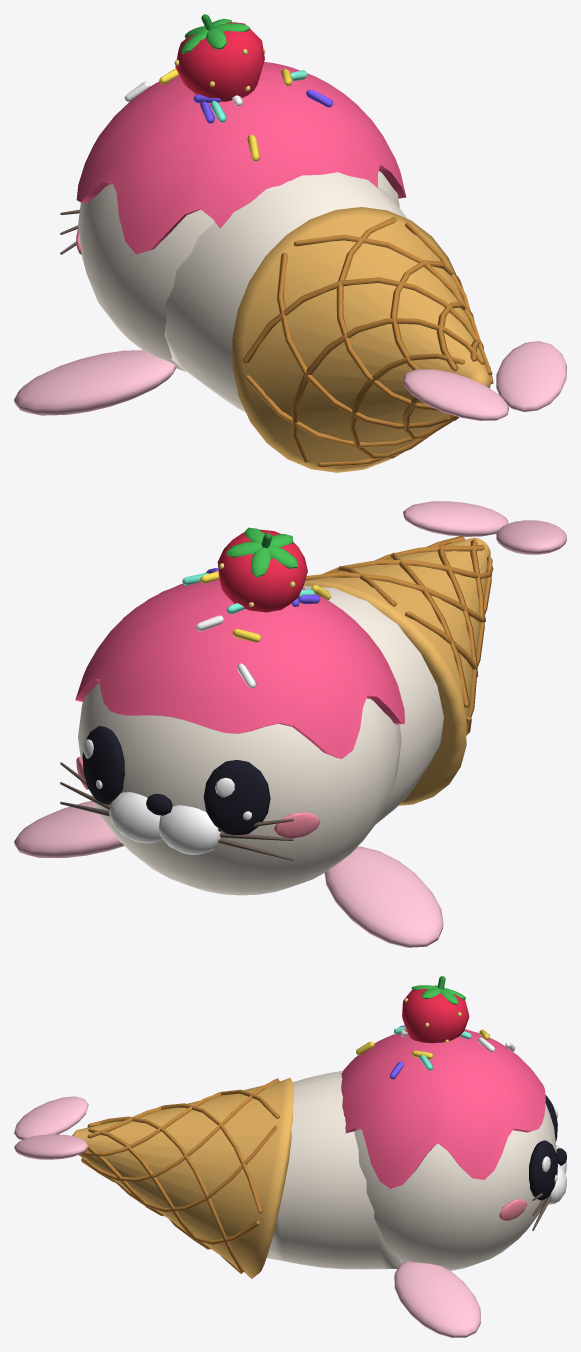
File: ice+strawberry.glb
The picture shows the model from 3 angles, top to bottom: view 1: azimuth 30°, elevation 25°; view 2: azimuth 150°, elevation 25°; view 3: azimuth 270°, elevation 25°; orthographic projection. The views are drawn at different scales.
Parts seen in each view (by area): view 1: ice+strawberry; view 2: ice+strawberry; view 3: ice+strawberry.
Part boxes in pixels (bbox=[...]): ice+strawberry: bbox=[14, 14, 566, 472]; ice+strawberry: bbox=[14, 501, 566, 947]; ice+strawberry: bbox=[14, 976, 566, 1337].
Size of the model in its own units: 3.67 by 3.1 by 5.52.
Materials: 1 (1 with a texture image).
